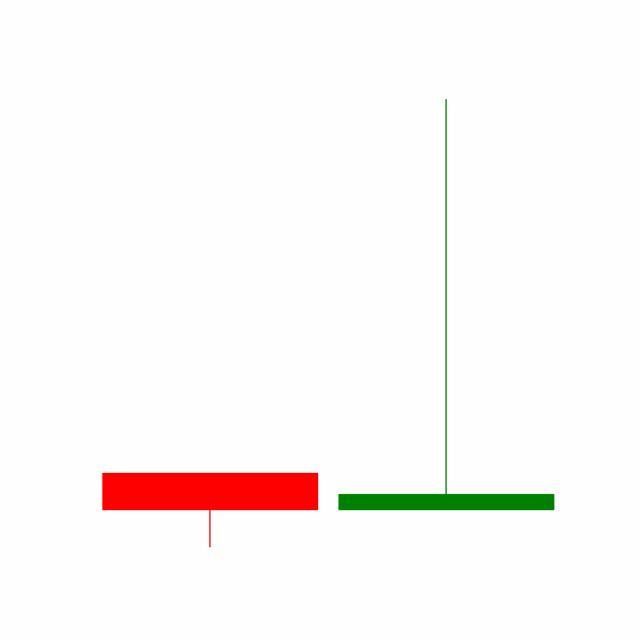Gravestone Doji: (328, 95, 566, 514)
